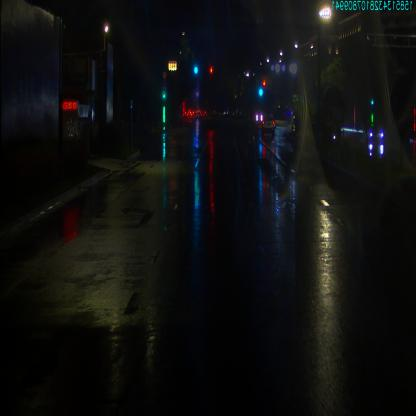traffic-light: (192, 65, 200, 76), (209, 63, 214, 74)
